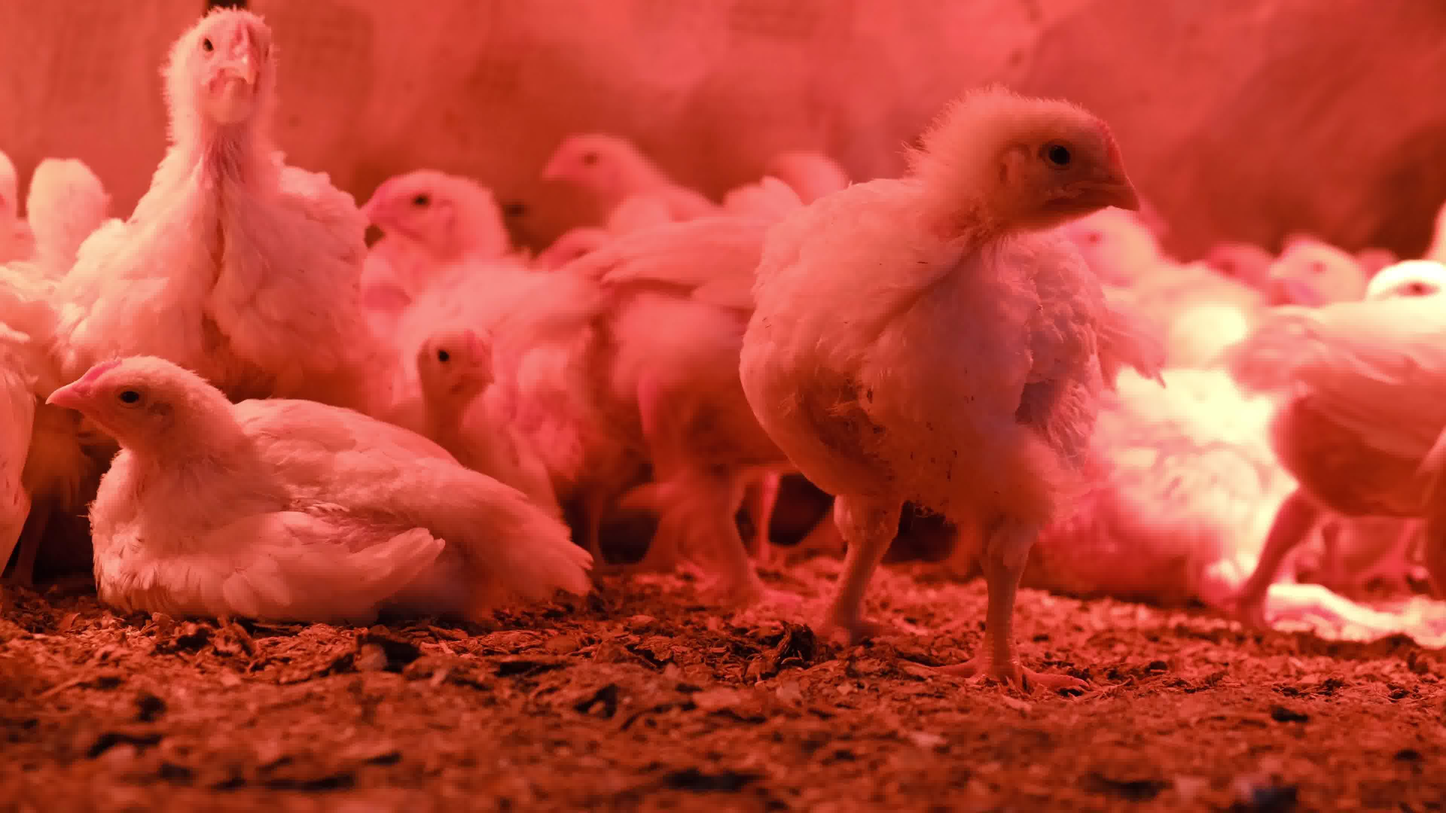AbNormal: (43, 349, 595, 625), (1015, 373, 1313, 623), (370, 315, 554, 581)
Normal: (738, 84, 1138, 683), (54, 6, 381, 416), (555, 189, 831, 617), (1234, 286, 1446, 648), (359, 172, 518, 301), (541, 132, 728, 214), (19, 155, 122, 283), (1066, 211, 1170, 298), (1269, 243, 1360, 321), (938, 143, 941, 157)
